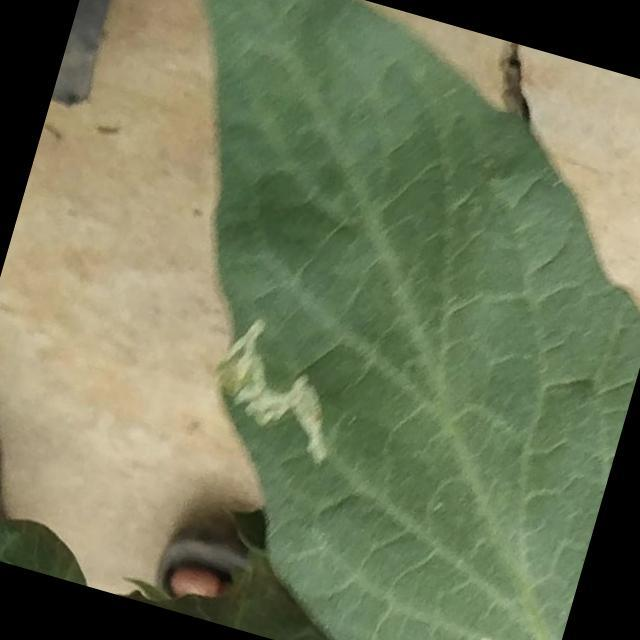Tomato target spot leaf: (23, 0, 640, 640)
